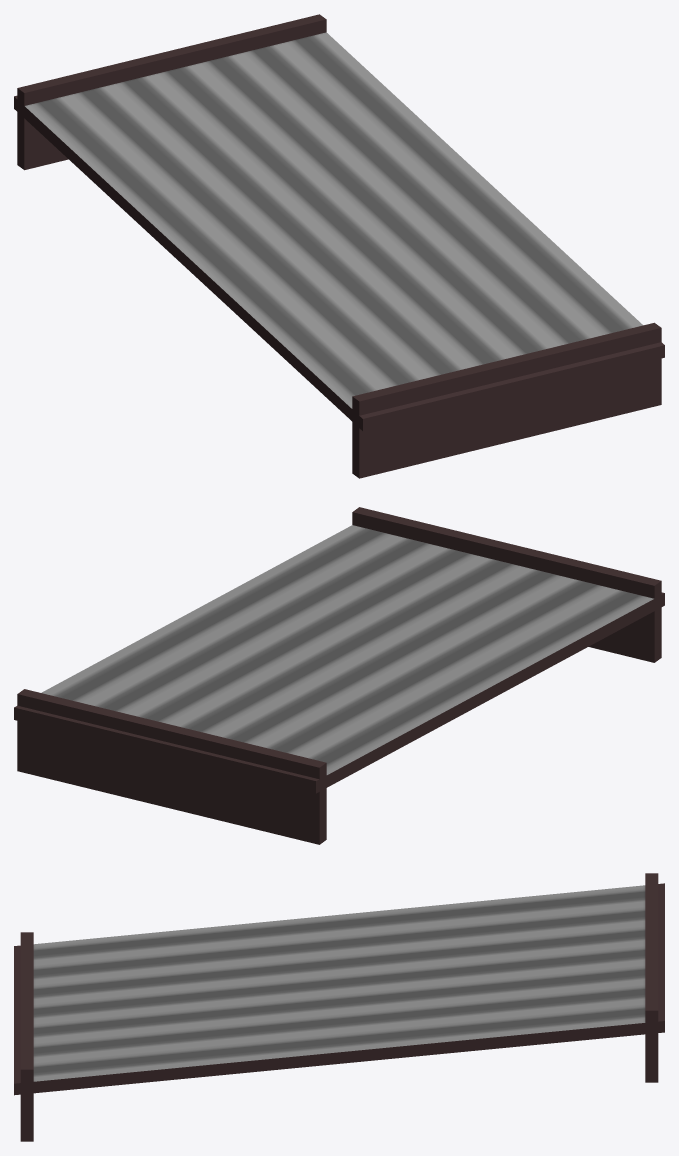
File: SW_ENV_EL_Station_Roof_A_02.fbx
The picture shows the model from 3 angles, top to bottom: view 1: azimuth 30°, elevation 25°; view 2: azimuth 150°, elevation 25°; view 3: azimuth 270°, elevation 25°; orthographic projection. The views are drawn at different scales.
Parts seen in each view (by area): view 1: SW_ENV_EL_Station_Roof_A_02; view 2: SW_ENV_EL_Station_Roof_A_02; view 3: SW_ENV_EL_Station_Roof_A_02.
Part boxes in pixels (x1,y1,x2,y2): SW_ENV_EL_Station_Roof_A_02: (14, 14, 664, 478); SW_ENV_EL_Station_Roof_A_02: (14, 507, 664, 844); SW_ENV_EL_Station_Roof_A_02: (14, 873, 664, 1141).
Size of the model in its own units: 250 by 111 by 500.
